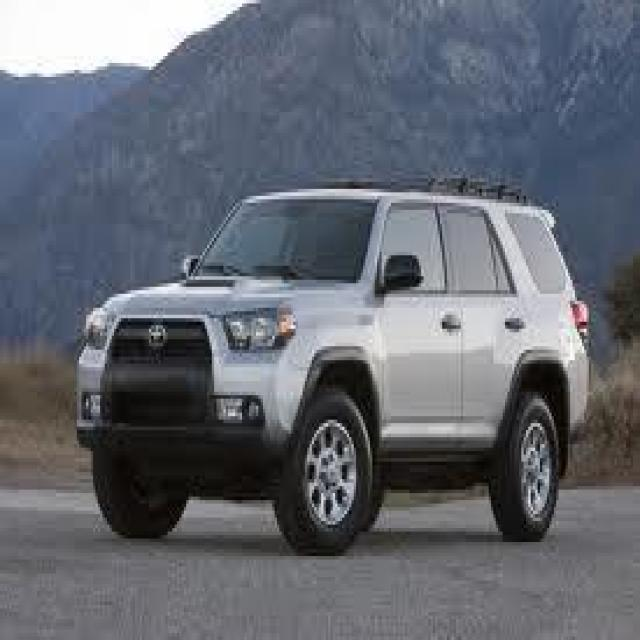Car: (65, 130, 580, 560)
